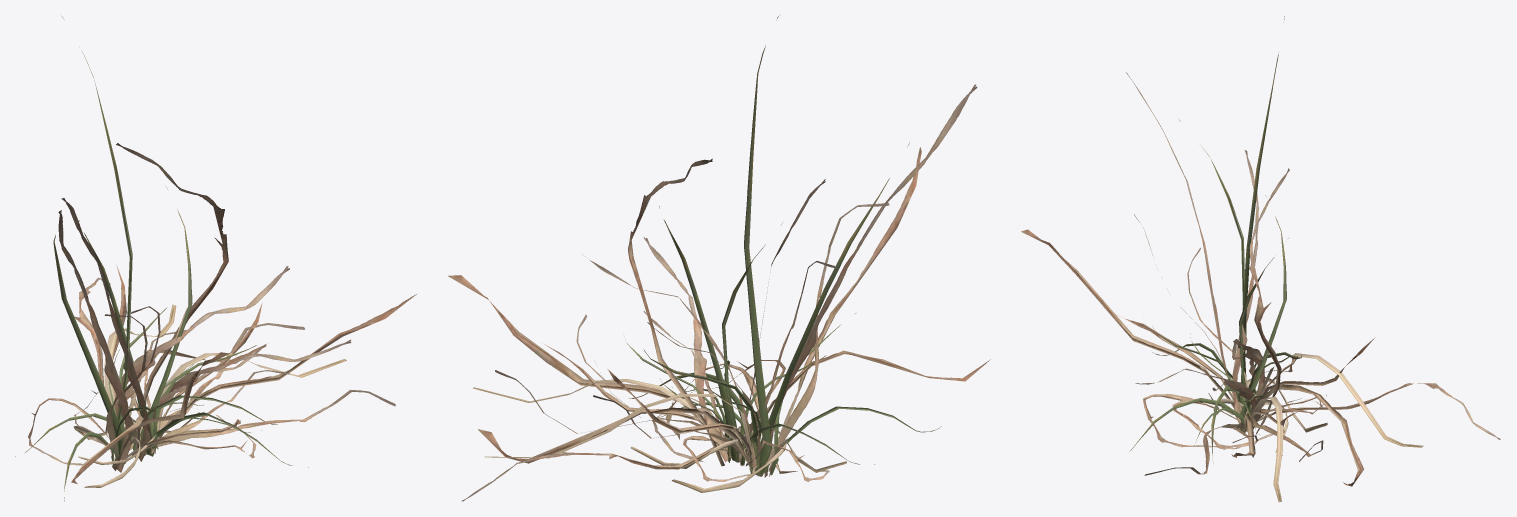
The picture shows the model from 3 angles, left to right: view 1: azimuth 30°, elevation 25°; view 2: azimuth 150°, elevation 25°; view 3: azimuth 270°, elevation 25°; orthographic projection. The views are drawn at different scales.
Visible parts, largest first — view 1: grass_medium_02__b_lod0; view 2: grass_medium_02__b_lod0; view 3: grass_medium_02__b_lod0.
Boxes of the visible parts, x1=… form: grass_medium_02__b_lod0: x1=15, y1=16, x2=416, y2=501; grass_medium_02__b_lod0: x1=448, y1=15, x2=990, y2=501; grass_medium_02__b_lod0: x1=1021, y1=16, x2=1500, y2=502.
Bounding box in the file's own units: 0.1858 × 0.1886 × 0.2064.
Materials: 1 (1 with a texture image).
